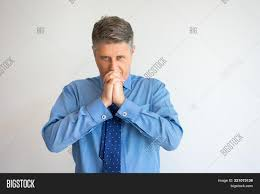white_male: (90, 31, 131, 87)
